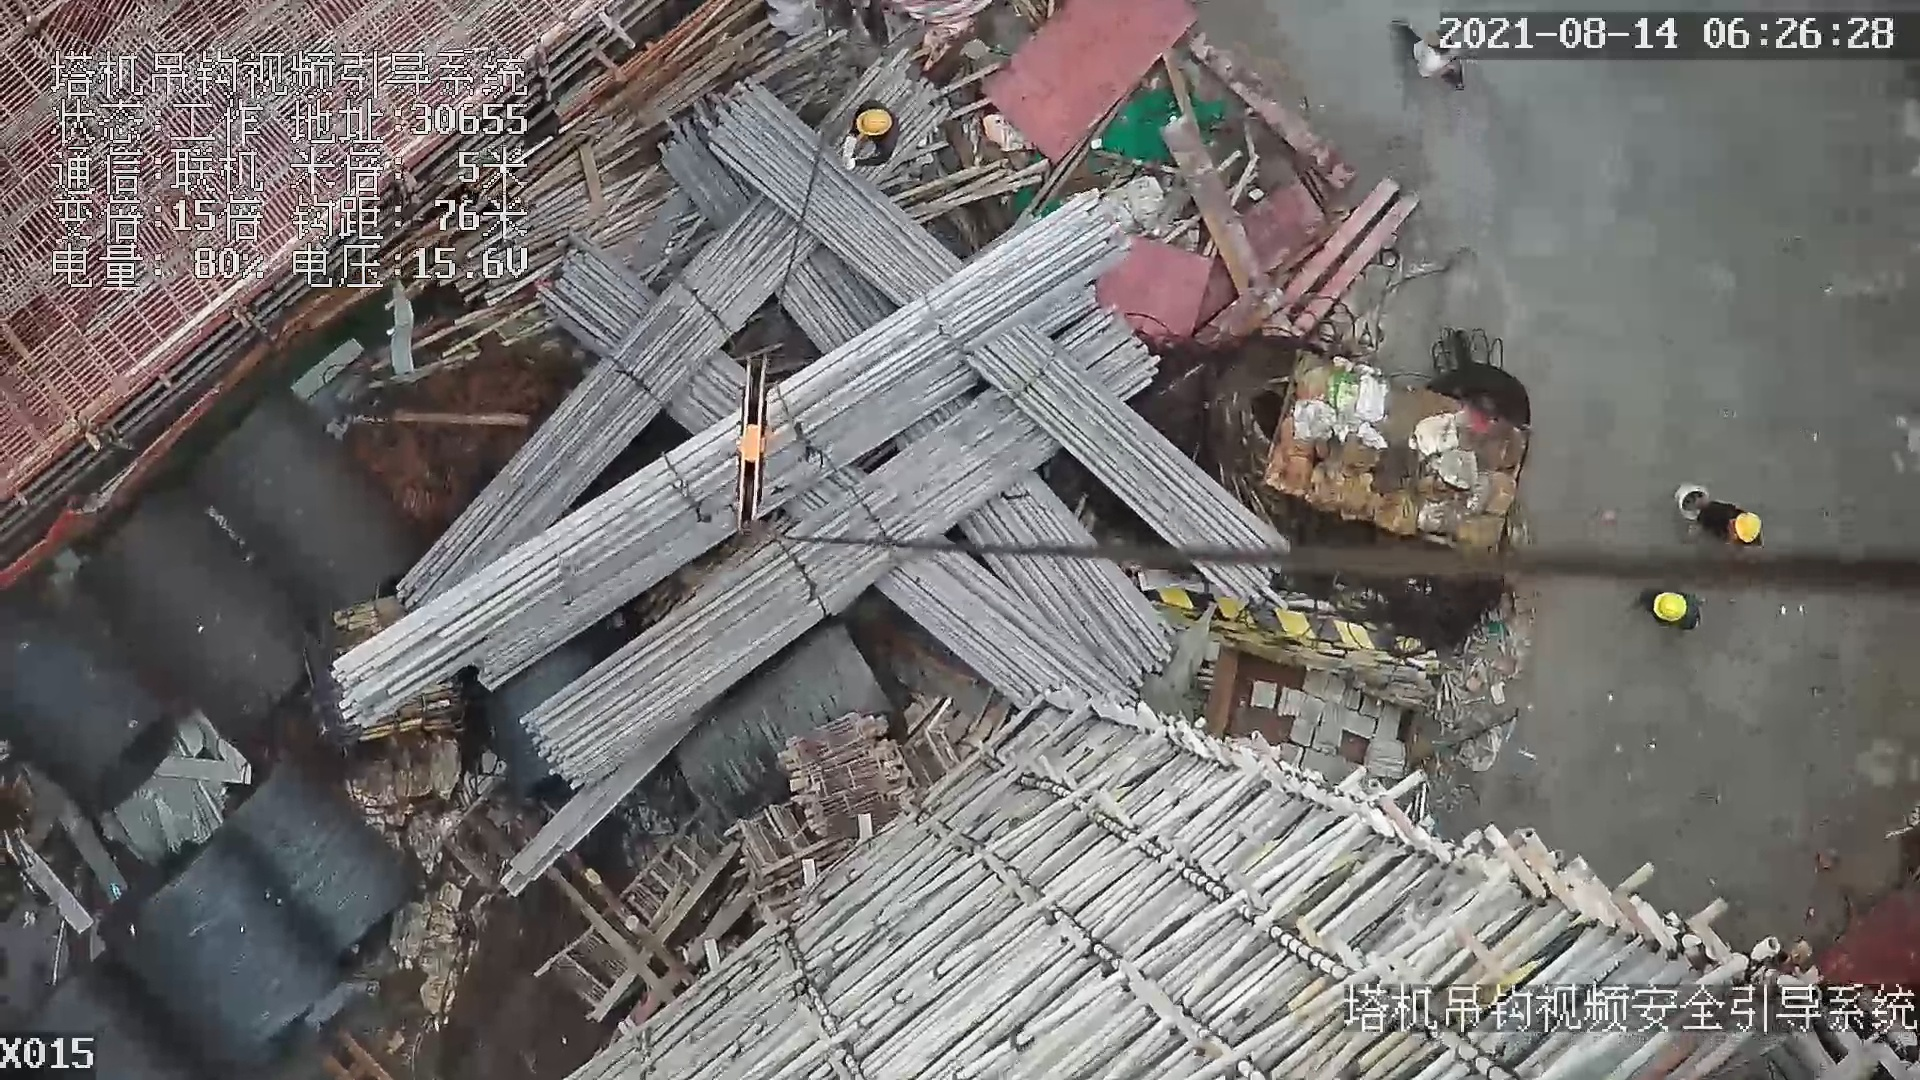helmet: (1732, 508, 1767, 548), (852, 105, 895, 135), (1651, 591, 1689, 619)
person: (1699, 476, 1760, 547), (844, 94, 895, 177), (1640, 594, 1697, 630)
